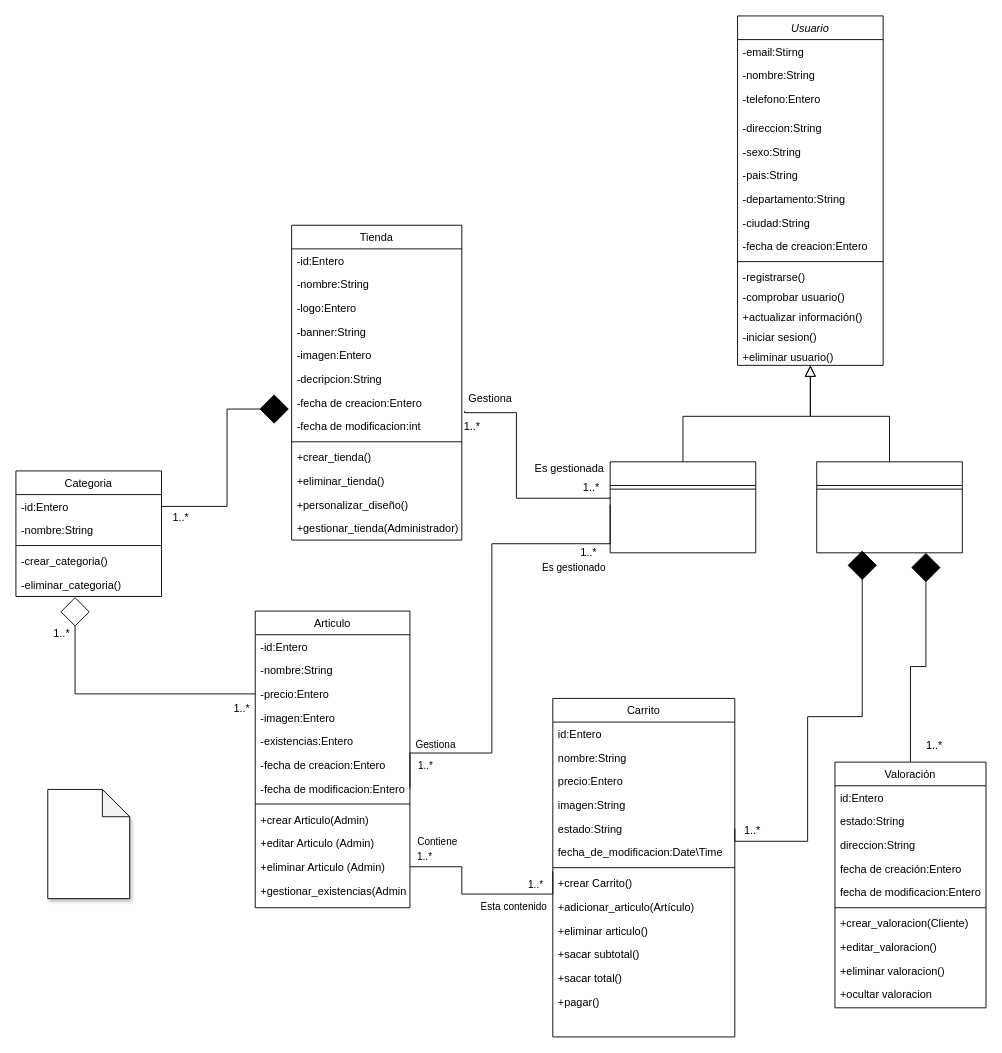
The diagram is 1002 pixels wide and 1053 high, and some of its shapes have lost their labels. The centre of each missing label's shape, as x and y in pixels:
Administrador: the point at 682,507
Cliente: the point at 889,507
Todos los atributos privados tienen set() y get(): the point at 89,845
